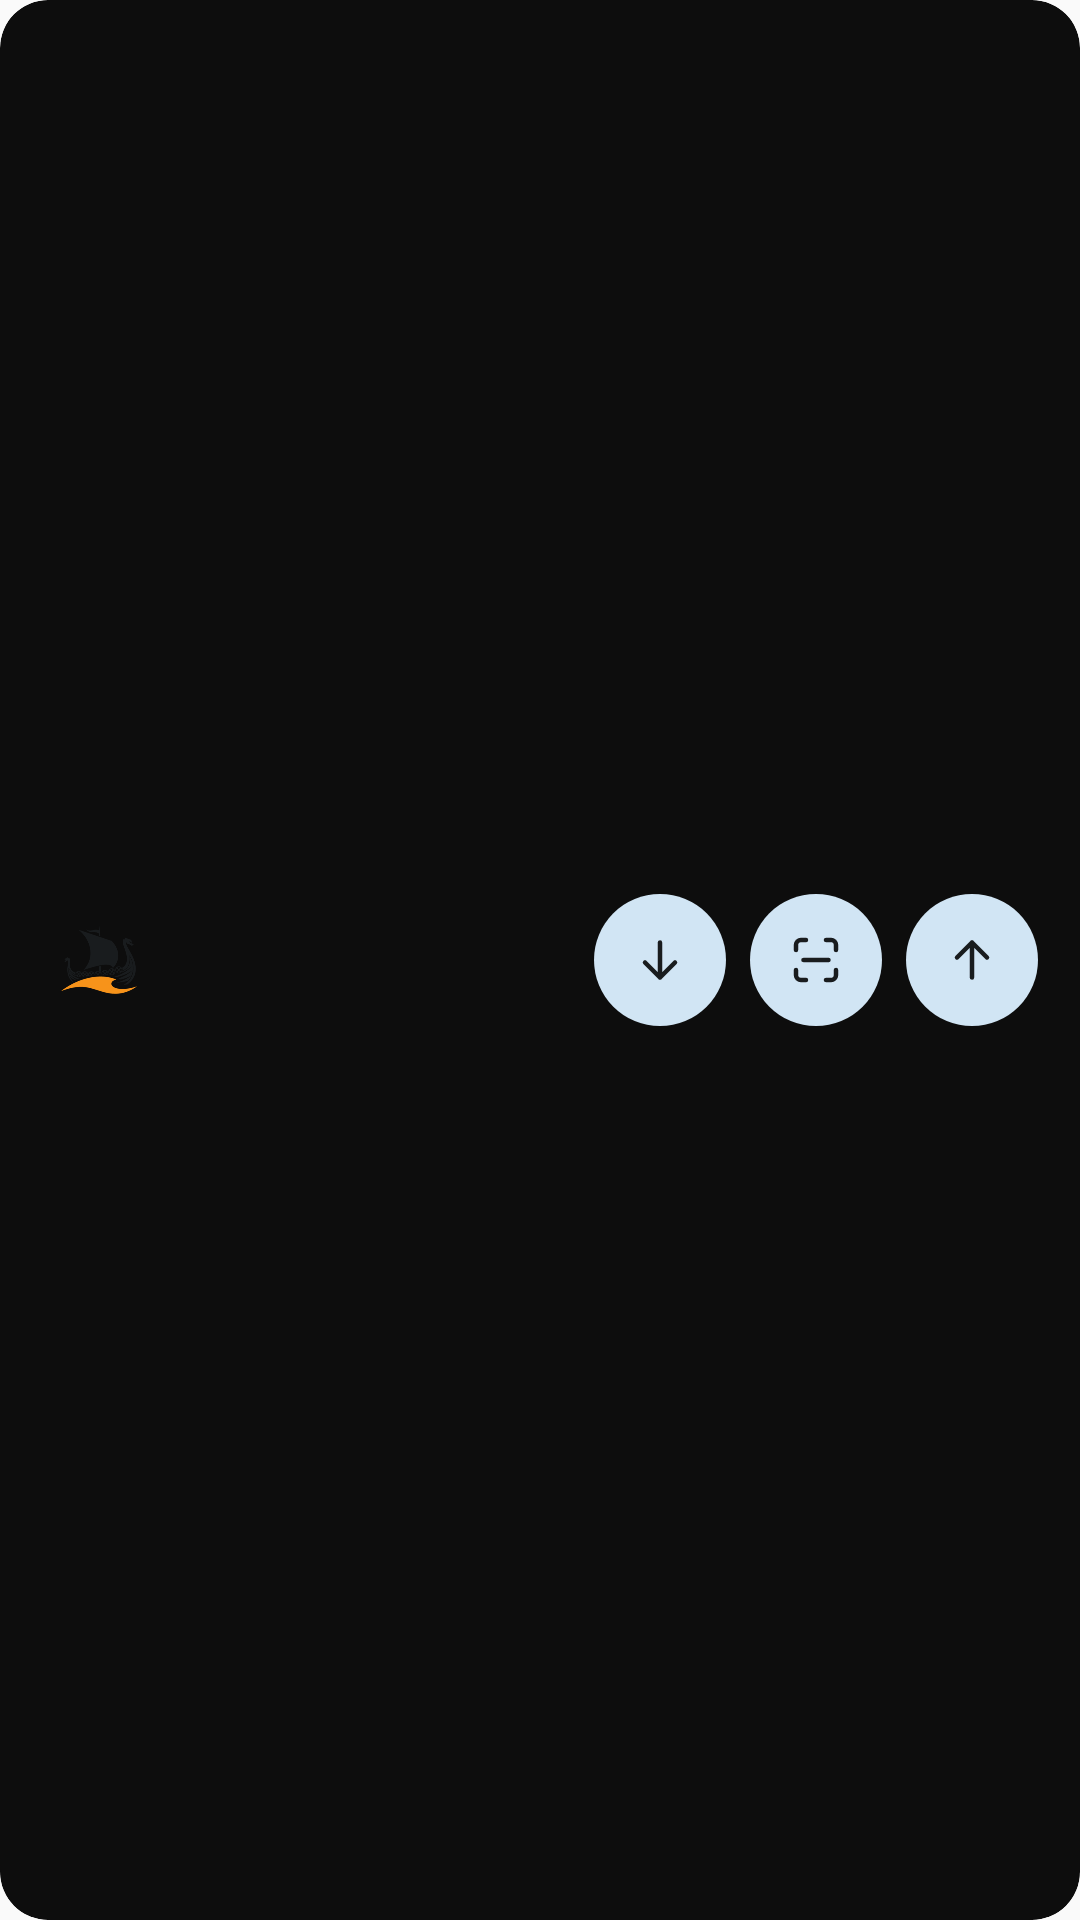

Icon bounding boxes for this 1080*1920 phone screenshot, format (x1, y1, x2, y2):
home scan: (793, 937, 839, 983)
receive: (642, 940, 678, 980)
send: (954, 940, 990, 980)
